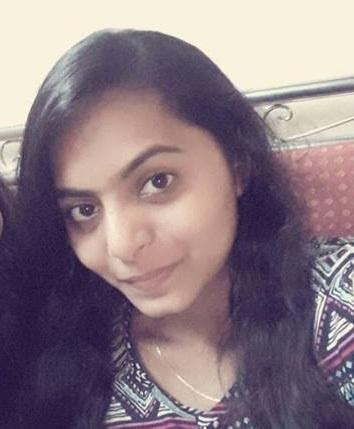No Mask: (28, 80, 271, 355)
